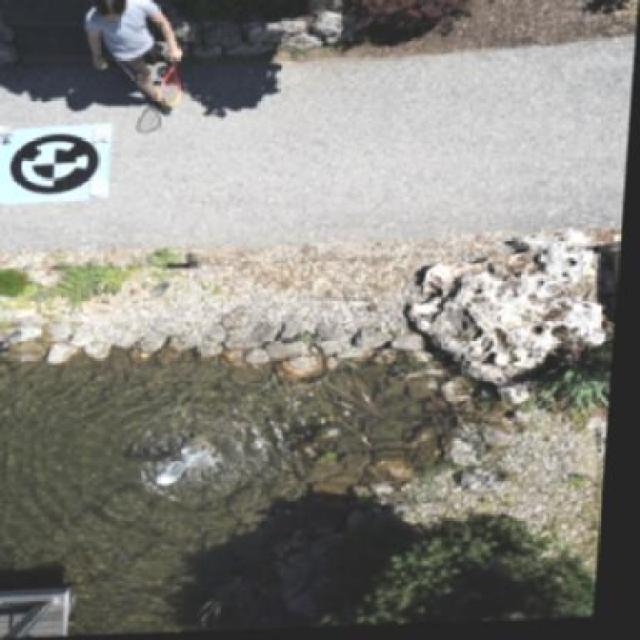Person: (70, 0, 187, 126)
